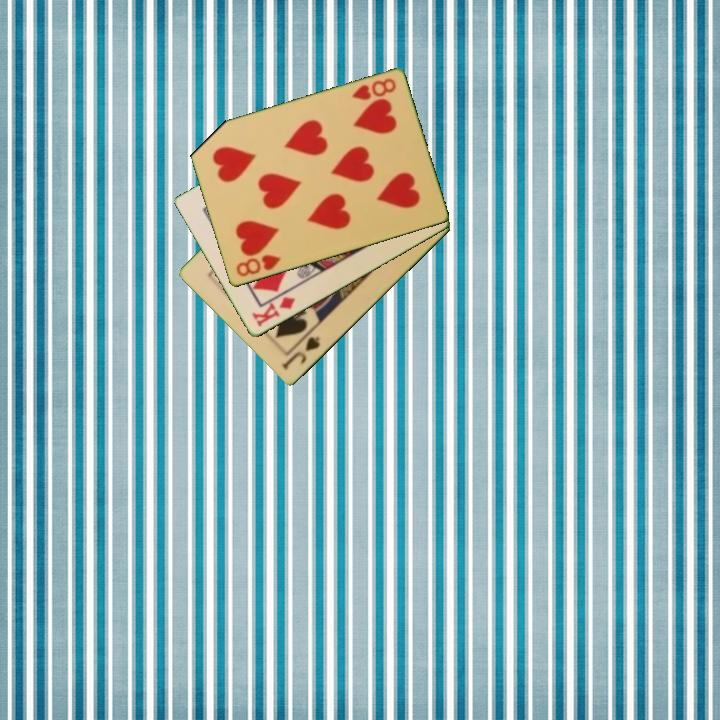8h: (232, 251, 283, 280), (348, 75, 399, 104)
Js: (278, 333, 323, 374)
Kd: (248, 293, 298, 331)
